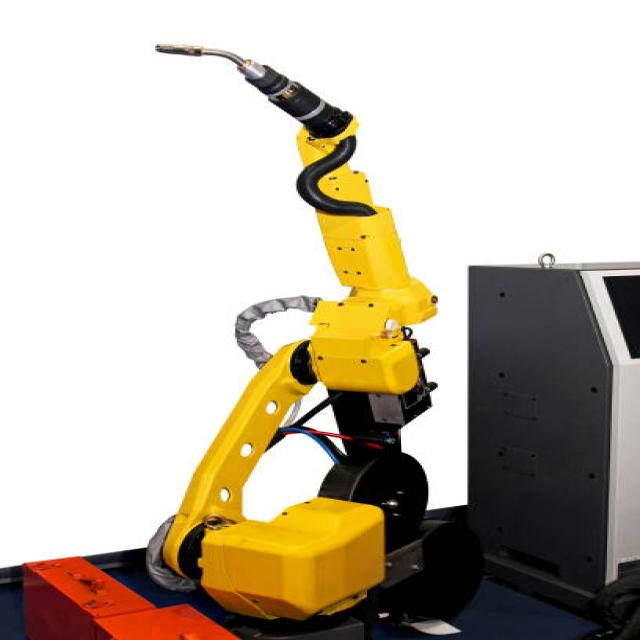Robotic-arm: (119, 14, 449, 622)
